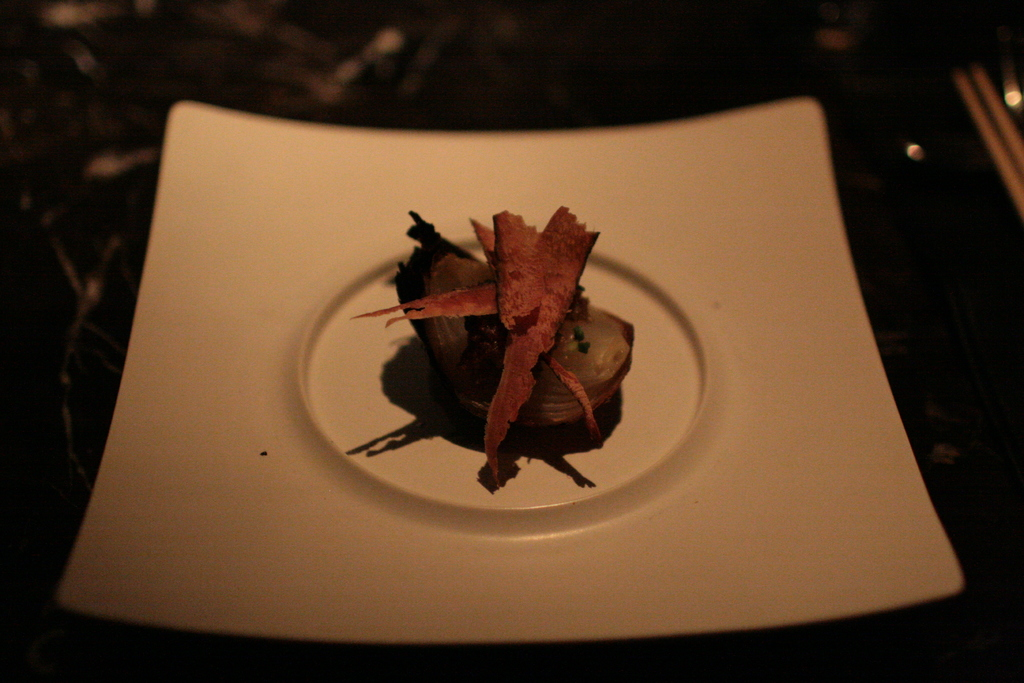plate: (26, 72, 973, 682)
